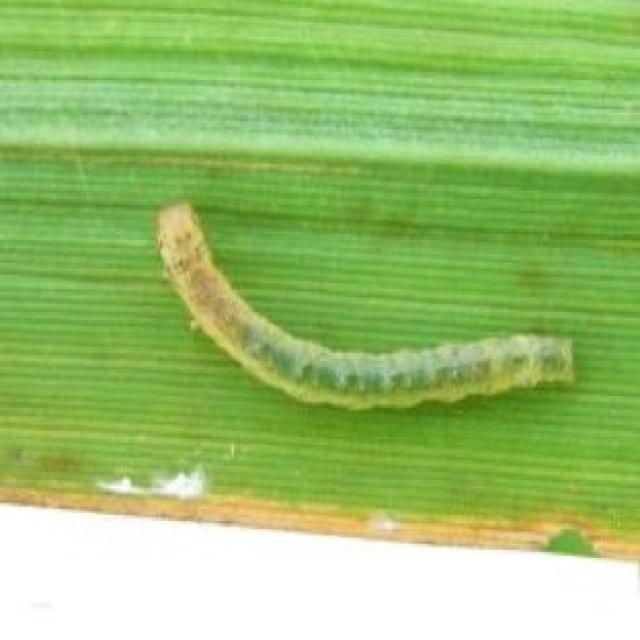rice leaf roller: (158, 203, 572, 408)
